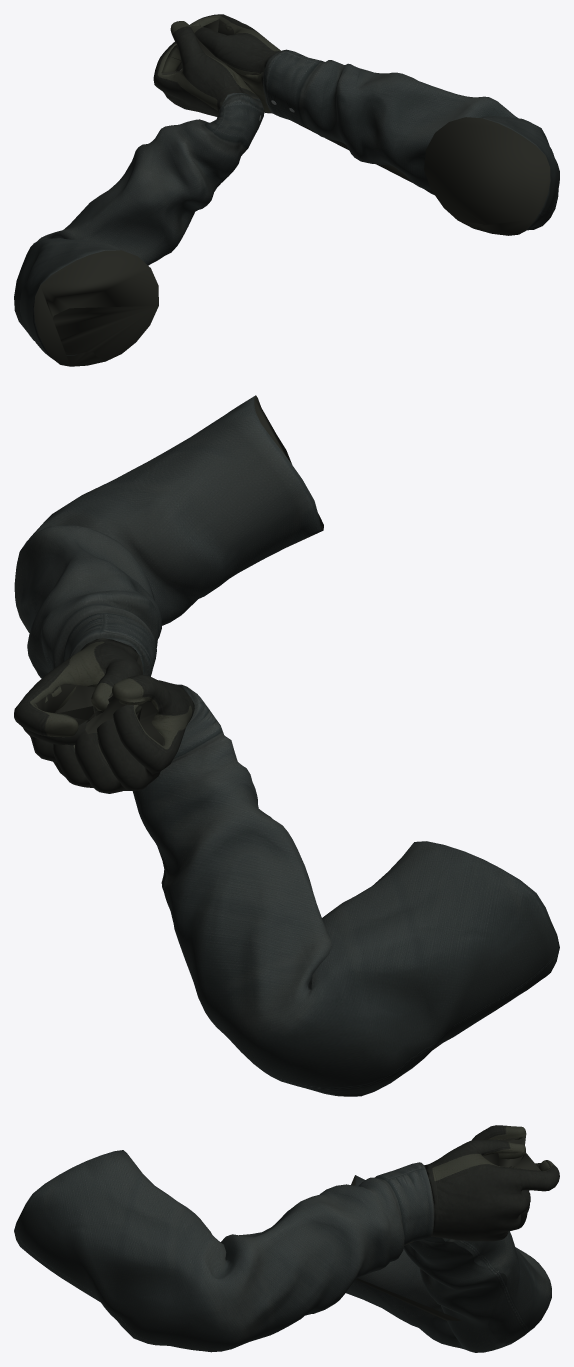
The model's file is arms-pistol.glb.
3 views of the same model, one above another, from view 1: azimuth 30°, elevation 25°; view 2: azimuth 150°, elevation 25°; view 3: azimuth 270°, elevation 25° (orthographic). The views are drawn at different scales.
Visible parts, largest first — view 1: LeftArmMesh, RightArmMesh; view 2: LeftArmMesh, RightArmMesh; view 3: RightArmMesh, LeftArmMesh.
Part boxes in pixels (left/top/right/bottom): LeftArmMesh: left=14, top=21, right=264, bottom=366; RightArmMesh: left=189, top=14, right=559, bottom=235; LeftArmMesh: left=53, top=675, right=559, bottom=1096; RightArmMesh: left=14, top=395, right=323, bottom=776; RightArmMesh: left=14, top=1139, right=559, bottom=1352; LeftArmMesh: left=346, top=1125, right=551, bottom=1352.
Size of the model in its own units: 0.9906 by 0.6326 by 1.
Materials: 1 (1 with a texture image).
